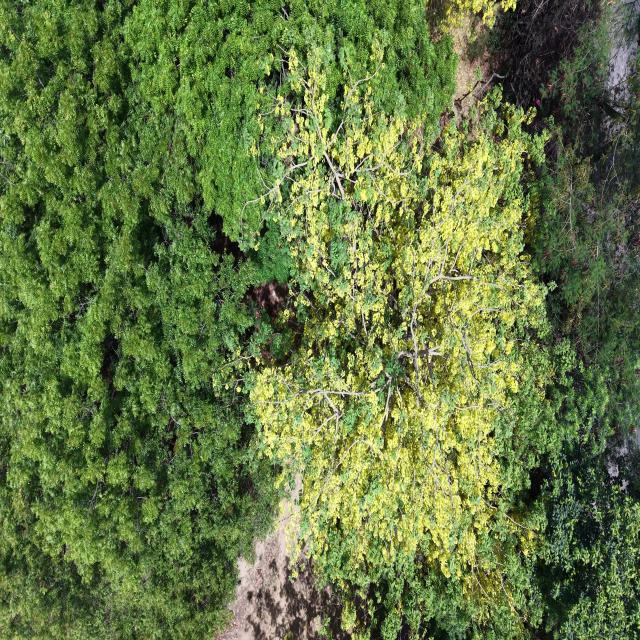DRY_AREA: (217, 509, 349, 639), (217, 510, 349, 639), (217, 511, 349, 639), (451, 15, 499, 118), (609, 0, 639, 101), (452, 16, 481, 116)
VEGETATION_TREE: (0, 0, 639, 639), (0, 0, 455, 638), (251, 50, 554, 638), (0, 3, 275, 638), (496, 2, 639, 638), (535, 5, 639, 639)
